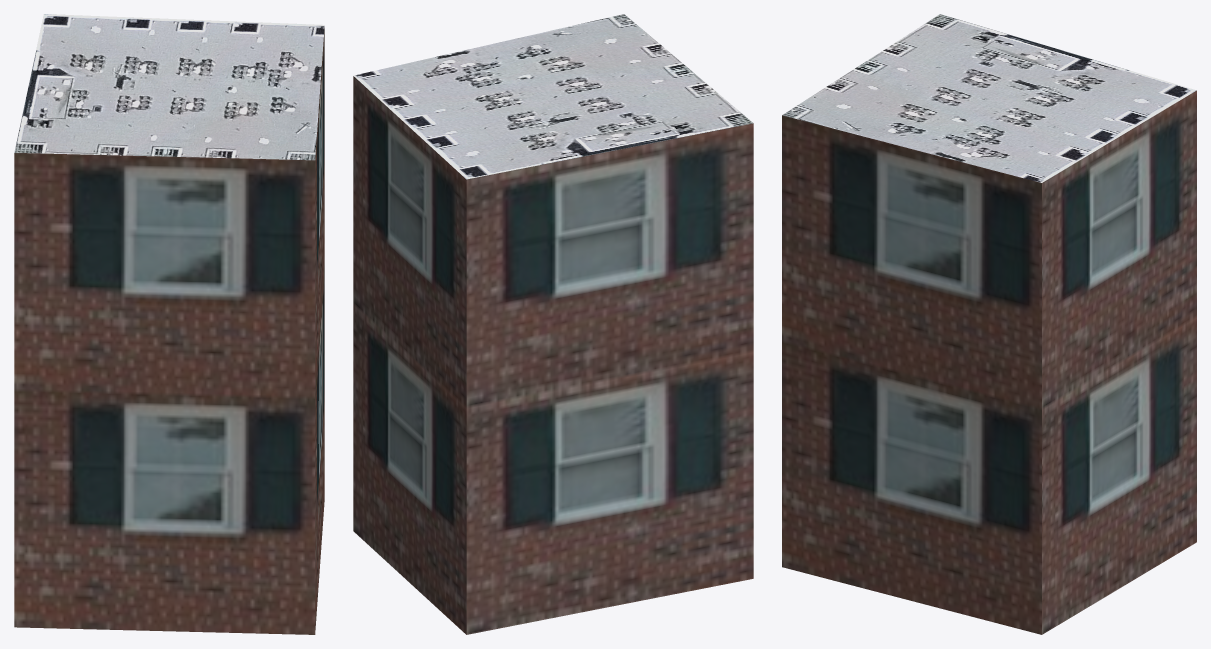
Rendered from ResTex__436.fbx.
3 renders of one model, left to right at view 1: azimuth 30°, elevation 25°; view 2: azimuth 150°, elevation 25°; view 3: azimuth 270°, elevation 25°, orthographic. The views are drawn at different scales.
Visible parts, largest first — view 1: CityEngineMaterial_14_m, CityEngineMaterial_m; view 2: CityEngineMaterial_14_m, CityEngineMaterial_m; view 3: CityEngineMaterial_14_m, CityEngineMaterial_m.
Part boxes in pixels (x1,y1,x2,y2): CityEngineMaterial_14_m: [14, 28, 324, 634]; CityEngineMaterial_m: [14, 14, 324, 160]; CityEngineMaterial_14_m: [353, 76, 753, 634]; CityEngineMaterial_m: [353, 14, 753, 179]; CityEngineMaterial_14_m: [782, 90, 1196, 634]; CityEngineMaterial_m: [782, 14, 1196, 182].
Bounding box in the file's own units: 4.81 × 6 × 4.99.
2 materials, 2 textured.
